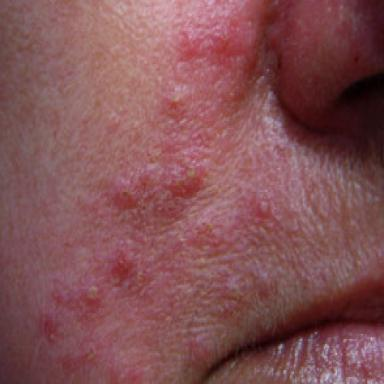acne: (113, 162, 205, 227), (179, 23, 256, 76), (110, 238, 138, 286), (189, 334, 221, 370), (162, 85, 189, 122), (81, 277, 104, 316), (196, 211, 221, 246), (67, 343, 102, 365), (225, 274, 251, 300), (110, 363, 142, 383), (250, 193, 271, 219), (40, 313, 59, 340), (257, 273, 277, 298)
